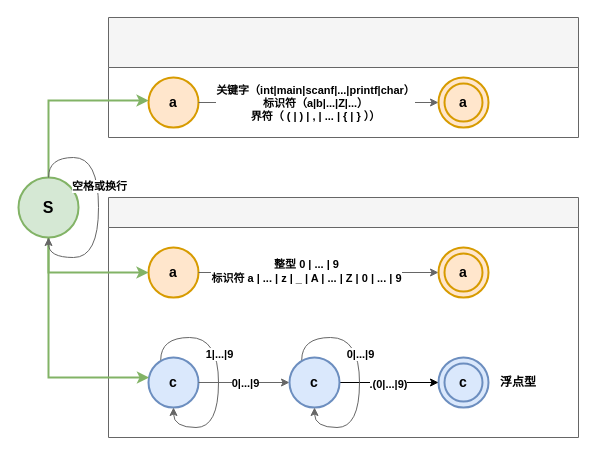
Image size: 596x455. Some labels were removed from this diagram. Each missing label, with the box of its shape:
1. 关键字 (Keyword) 2. 运算符(Operators) 3.界符(Delimiters): (108, 16, 578, 138)
4. 常量 (Constants) 5. 标识符(Identifier): (108, 196, 578, 438)
